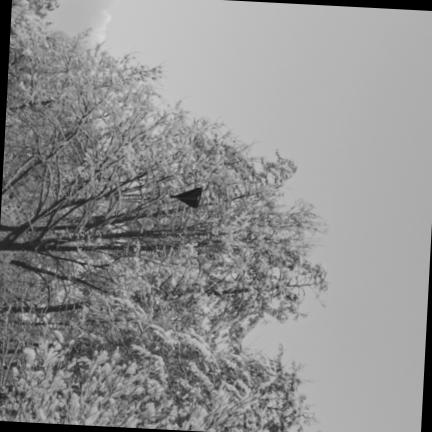Shahed: (169, 186, 202, 208)
